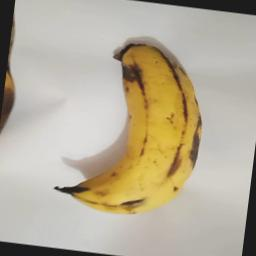Banana Unripe: (51, 30, 215, 221)
